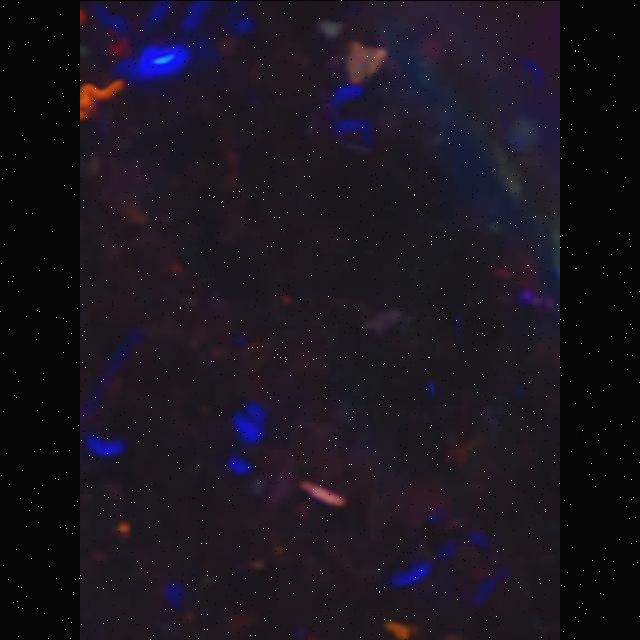Fragment: (80, 80, 128, 120)
